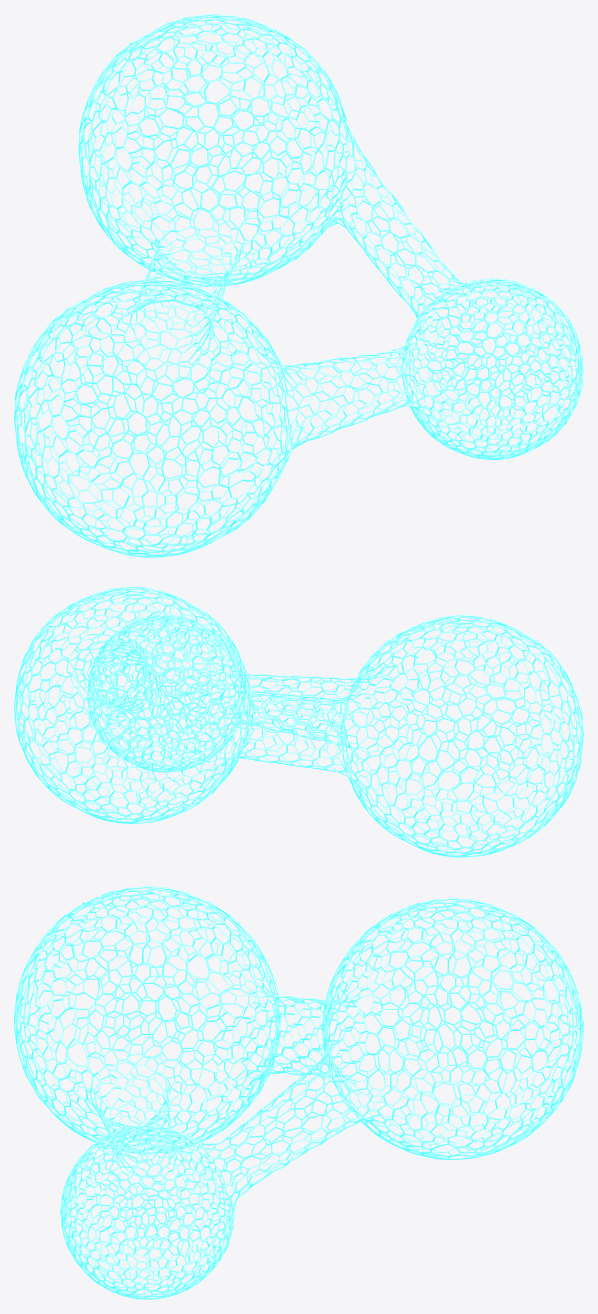
The model's file is Experimental wire .fbx.
The picture shows the model from 3 angles, top to bottom: view 1: azimuth 30°, elevation 25°; view 2: azimuth 150°, elevation 25°; view 3: azimuth 270°, elevation 25°; orthographic projection. The views are drawn at different scales.
Visible parts, largest first — view 1: Icosphere.020; view 2: Icosphere.020; view 3: Icosphere.020.
Part boxes in pixels (x1,y1,x2,y2): Icosphere.020: (14, 14, 583, 557); Icosphere.020: (14, 586, 583, 857); Icosphere.020: (14, 886, 583, 1299).
Size of the model in its own units: 434 by 269 by 413.
